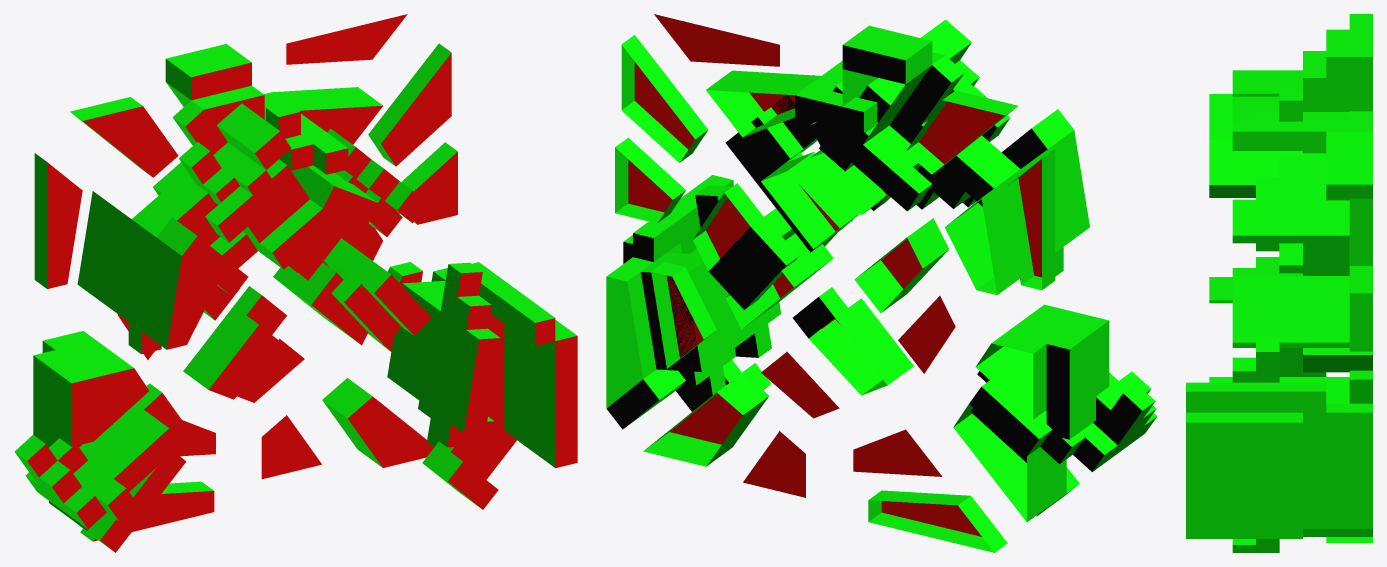
Rendered from my_city3.obj.
3 renders of one model, left to right at view 1: azimuth 30°, elevation 25°; view 2: azimuth 150°, elevation 25°; view 3: azimuth 270°, elevation 25°, orthographic. The views are drawn at different scales.
Visible parts, largest first — view 1: fixed, up, vertical; view 2: fixed, vertical, down; view 3: fixed, vertical.
Boxes of the visible parts, left/top/right/bottom form: fixed: left=25, top=14, right=564, bottom=552; up: left=27, top=112, right=577, bottom=529; vertical: left=14, top=102, right=576, bottom=528; fixed: left=606, top=14, right=1143, bottom=552; vertical: left=695, top=19, right=1157, bottom=442; down: left=695, top=90, right=1141, bottom=427; fixed: left=1209, top=14, right=1372, bottom=552; vertical: left=1186, top=70, right=1326, bottom=552.
Bounding box in the file's own units: 113 × 98.26 × 40.
